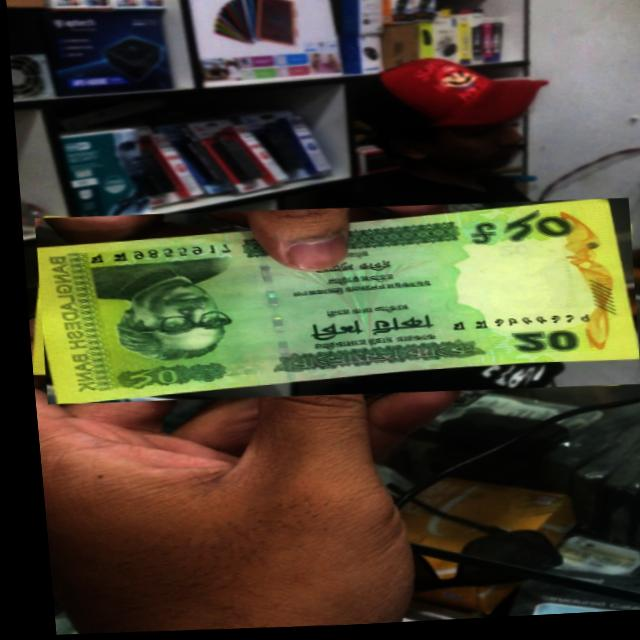Taka: (27, 194, 637, 415)
